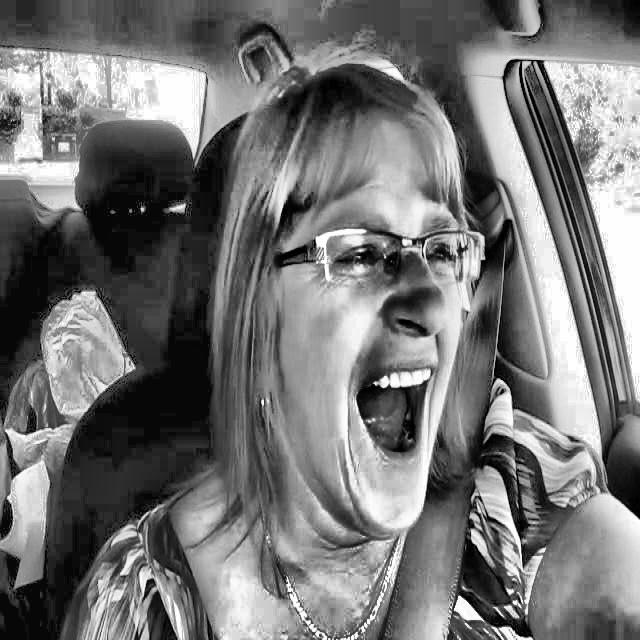open_eyes: (328, 236, 390, 285), (419, 241, 478, 286)
open_mouth: (330, 349, 446, 479)
